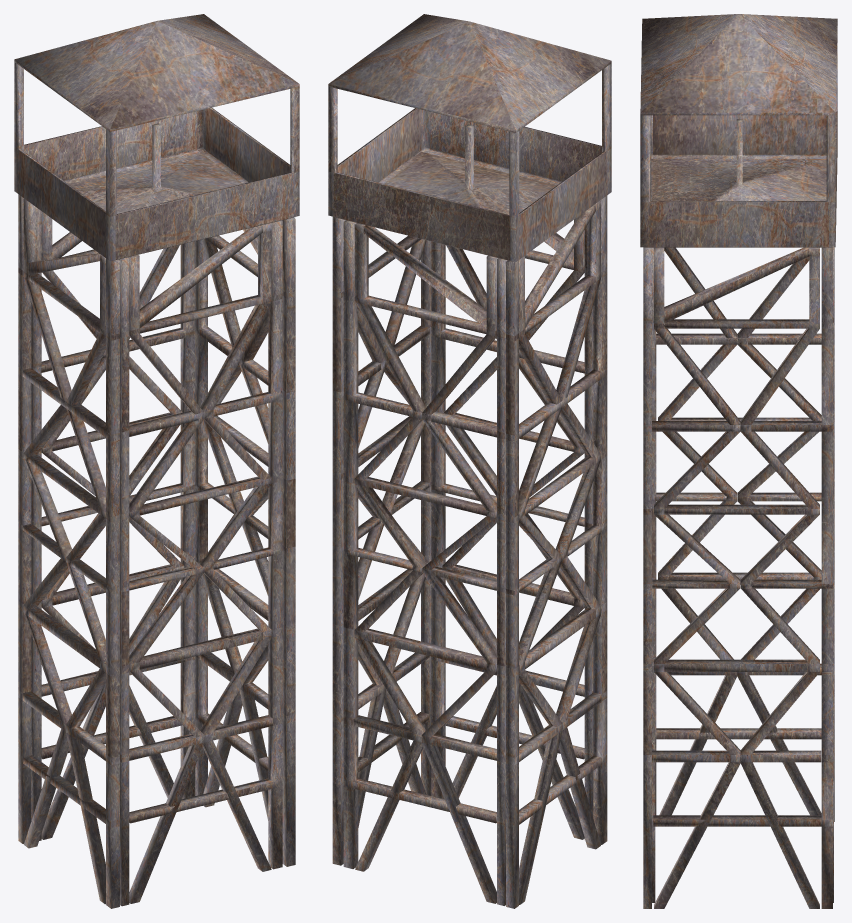
Rendered from tower.obj.
The picture shows the model from 3 angles, left to right: view 1: azimuth 30°, elevation 25°; view 2: azimuth 150°, elevation 25°; view 3: azimuth 270°, elevation 25°; orthographic projection. The views are drawn at different scales.
Visible parts, largest first — view 1: Cube; view 2: Cube; view 3: Cube.
Part boxes in pixels (x1=…): Cube: x1=14, y1=14, x2=299, y2=908; Cube: x1=328, y1=14, x2=611, y2=908; Cube: x1=640, y1=14, x2=837, y2=908.
Bounding box in the file's own units: 4.03 × 16.95 × 3.57.
